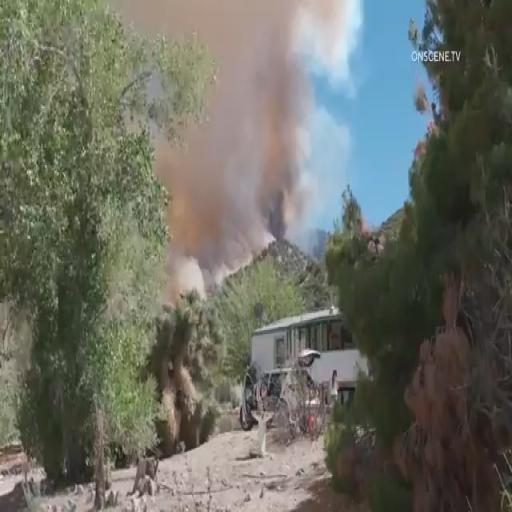smoke: (248, 137, 308, 236)
